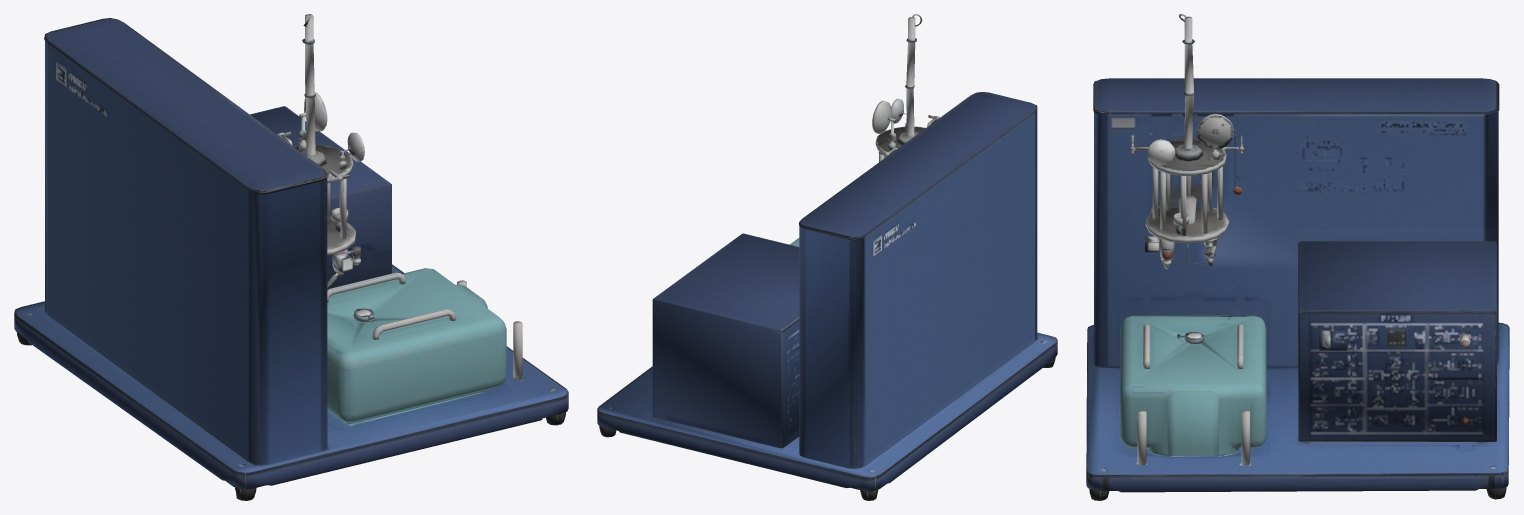
Rendered from tripo_convert_f01b3ba8-df98-4617-b2fe-6c0fcd8c0b1c.fbx.
3 views of the same model, side by side, from view 1: azimuth 30°, elevation 25°; view 2: azimuth 150°, elevation 25°; view 3: azimuth 270°, elevation 25° (orthographic). The views are drawn at different scales.
Parts seen in each view (by area): view 1: tripo_node_f01b3ba8; view 2: tripo_node_f01b3ba8; view 3: tripo_node_f01b3ba8.
Part boxes in pixels (x1,y1,x2,y2): tripo_node_f01b3ba8: [14, 14, 568, 500]; tripo_node_f01b3ba8: [597, 14, 1057, 500]; tripo_node_f01b3ba8: [1086, 14, 1509, 500].
Bounding box in the file's own units: 0.834 × 0.998 × 0.9746.
Materials: 1 (1 with a texture image).
